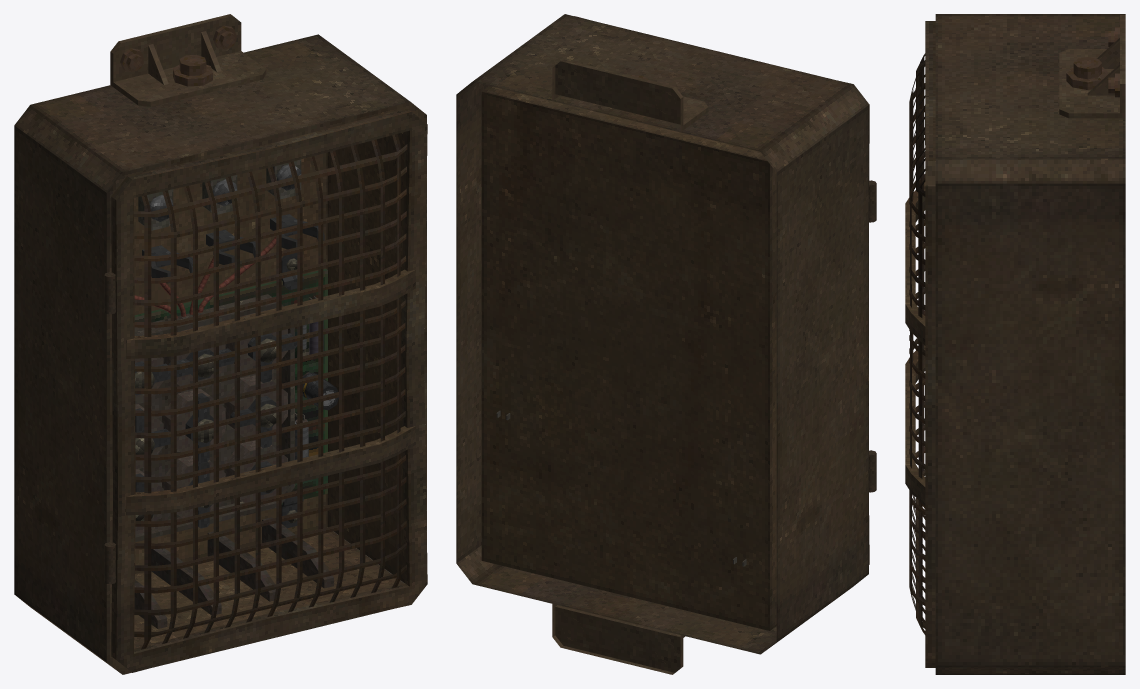
File: fuse_box_etx_1.glb
3 renders of one model, left to right at view 1: azimuth 30°, elevation 25°; view 2: azimuth 150°, elevation 25°; view 3: azimuth 270°, elevation 25°, orthographic. The views are drawn at different scales.
Parts seen in each view (by area): view 1: fuse_box_etx_1, fuse_box_etx_1_door, fuse_box_etx_1_puzzle_piece_child; view 2: fuse_box_etx_1, fuse_box_etx_1_door; view 3: fuse_box_etx_1, fuse_box_etx_1_door.
Part boxes in pixels (x1,y1,x2,y2): fuse_box_etx_1: [14, 14, 426, 674]; fuse_box_etx_1_door: [104, 108, 427, 672]; fuse_box_etx_1_puzzle_piece_child: [135, 357, 170, 404]; fuse_box_etx_1: [456, 14, 868, 674]; fuse_box_etx_1_door: [574, 16, 876, 564]; fuse_box_etx_1: [935, 14, 1125, 674]; fuse_box_etx_1_door: [905, 21, 935, 667].
Size of the model in its own units: 0.5465 by 0.945 by 0.3135.
2 materials, 2 textured.
